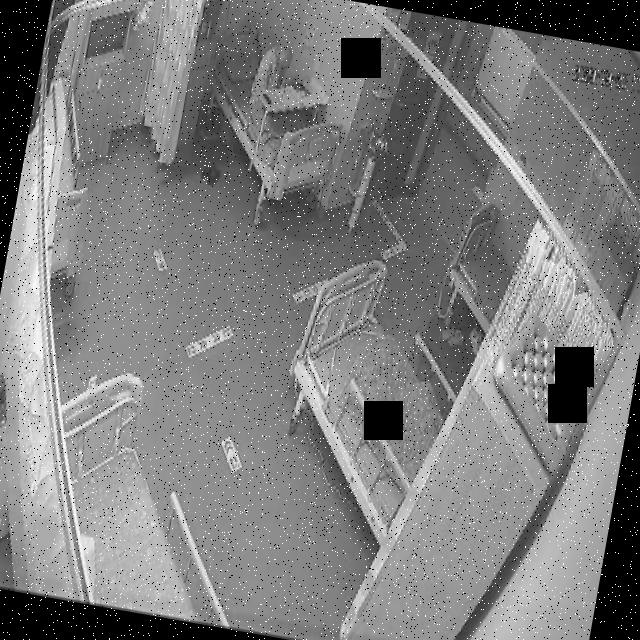bed: (26, 366, 268, 628), (266, 251, 468, 549), (185, 19, 358, 210), (439, 198, 524, 338)
patient: (246, 40, 296, 114)
sit: (248, 36, 295, 108)
